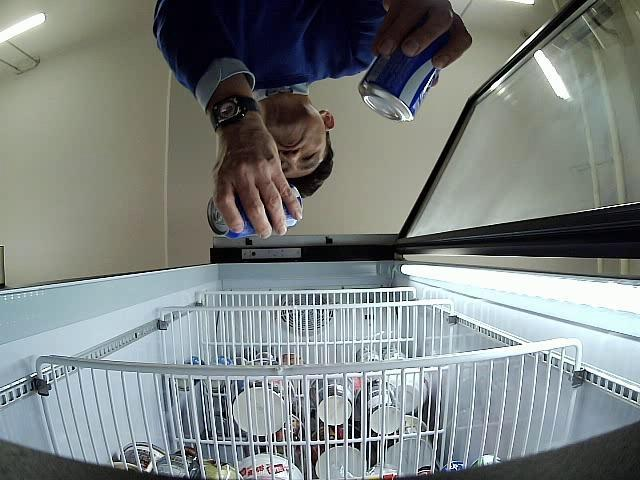13_pocariSweat: (358, 24, 452, 122), (208, 186, 302, 237)
